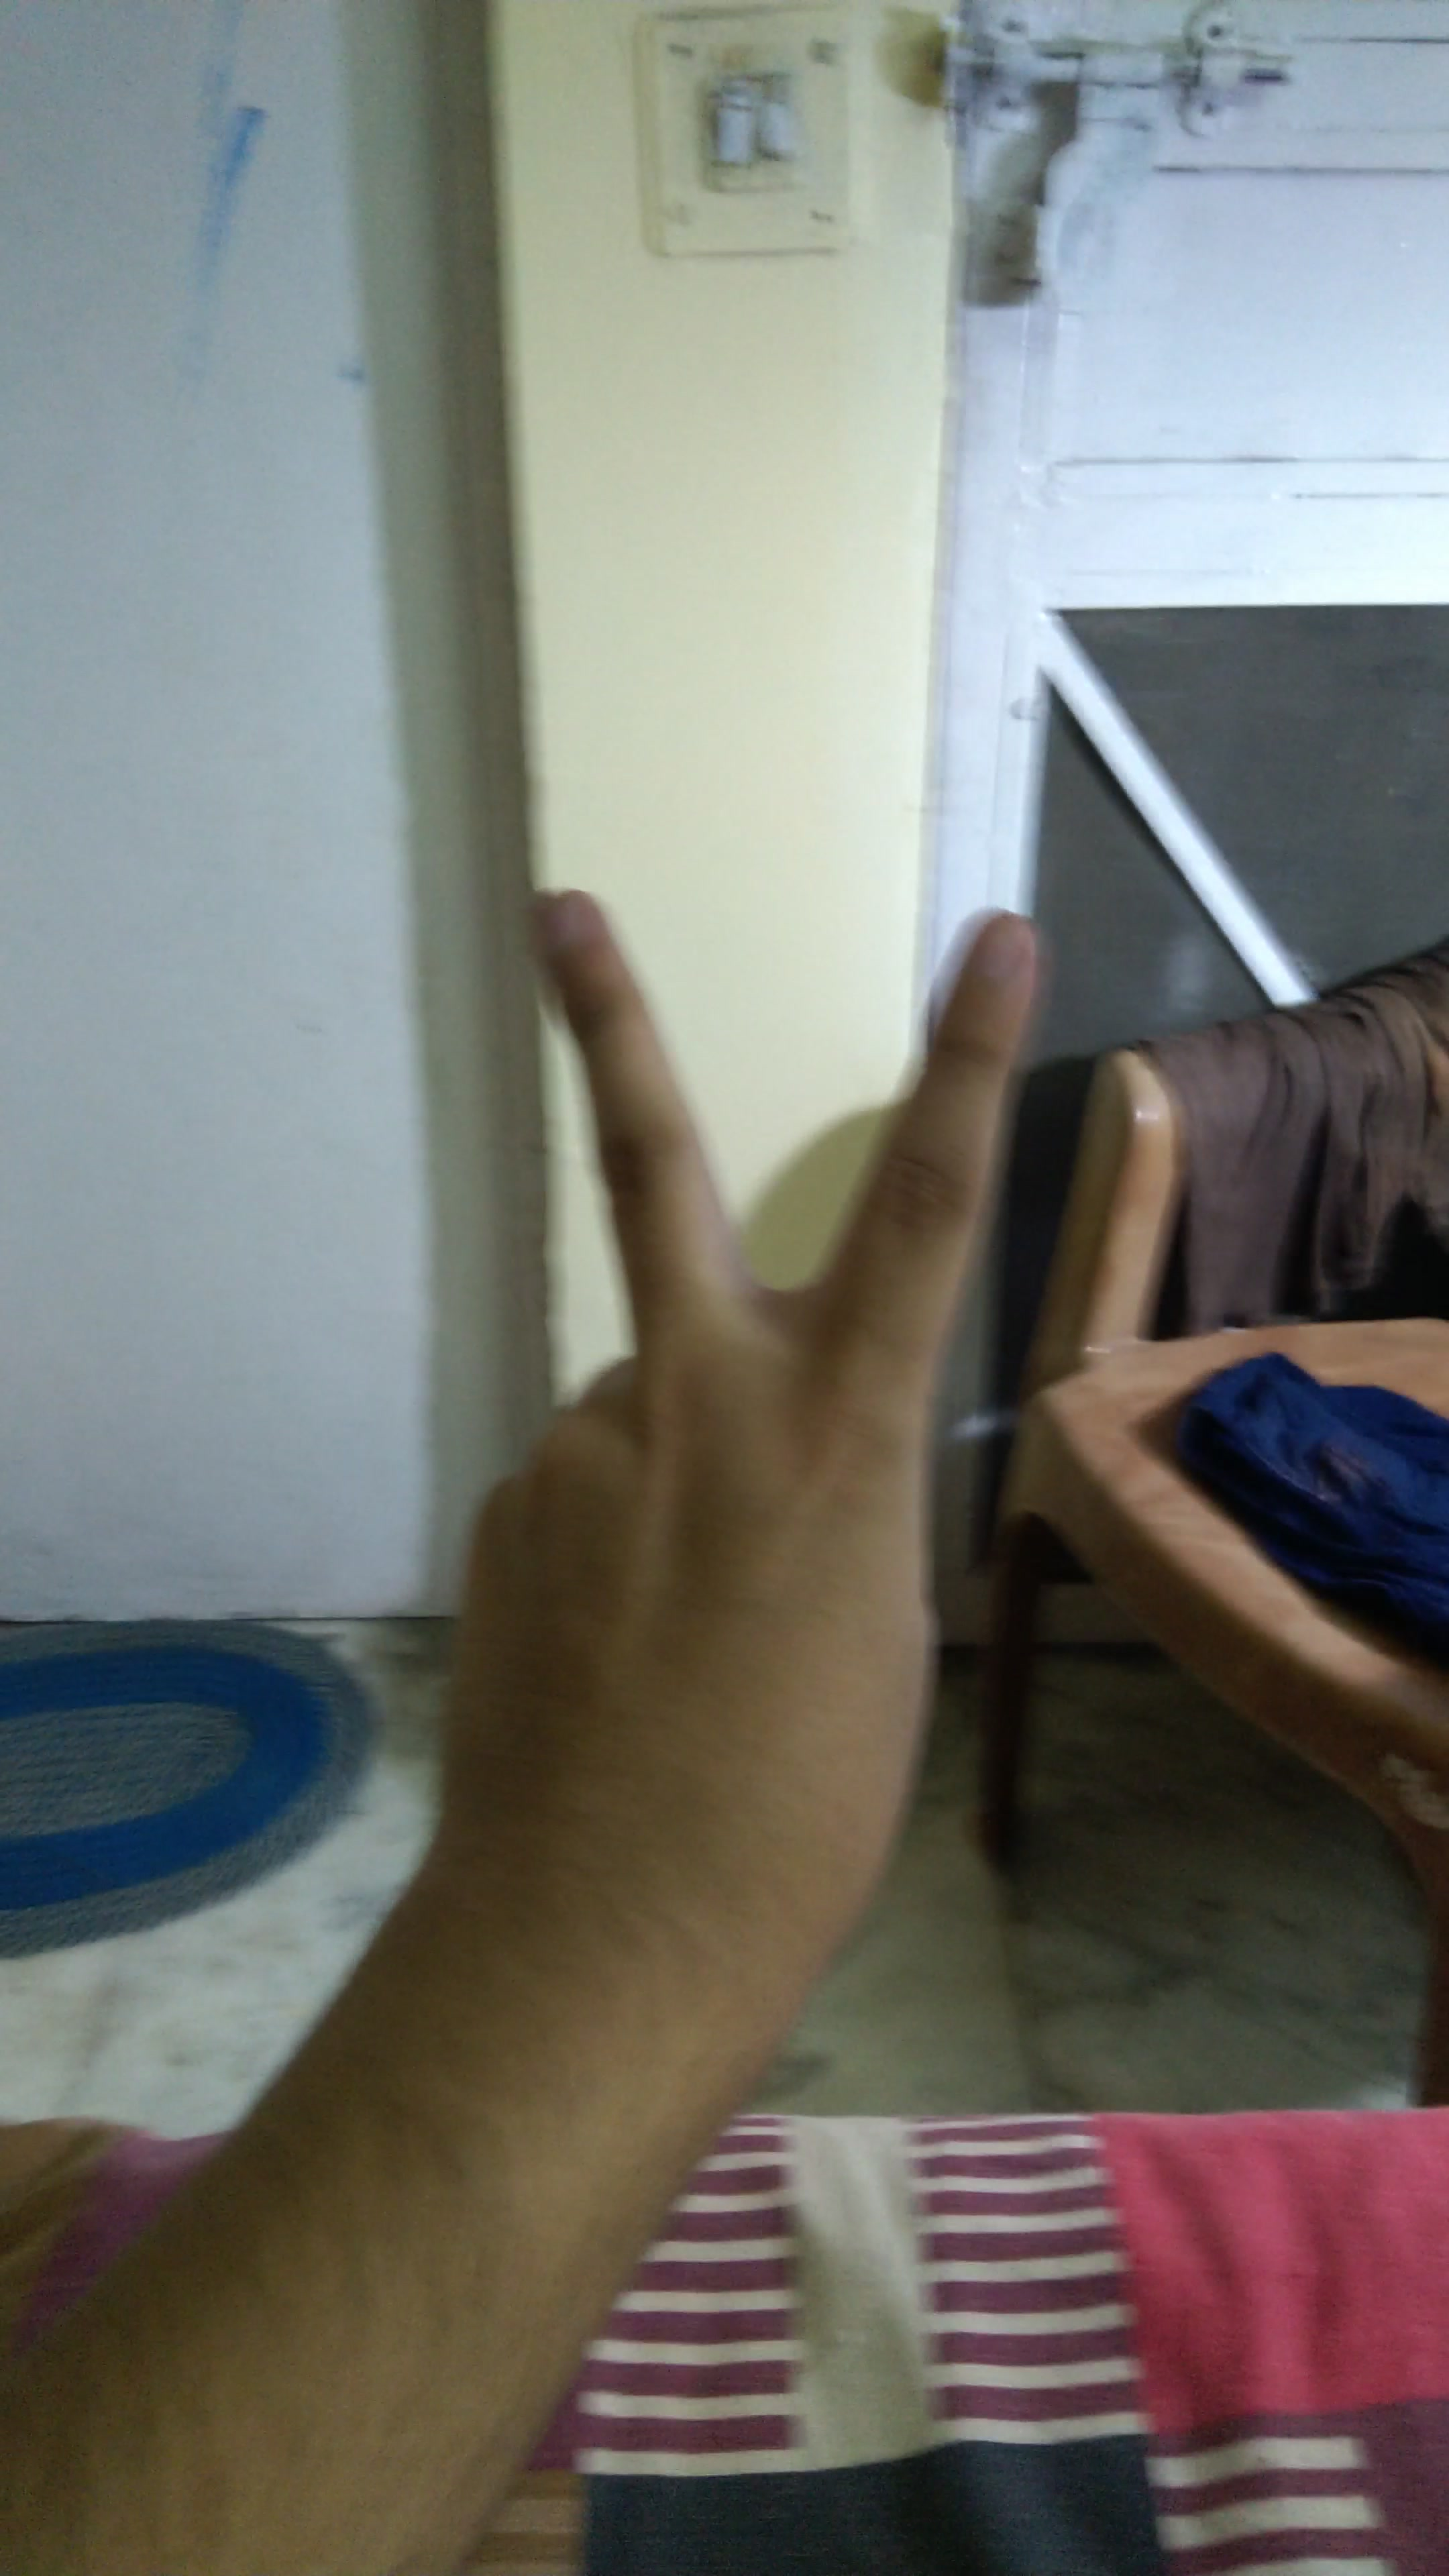hand: (379, 851, 1173, 2043)
